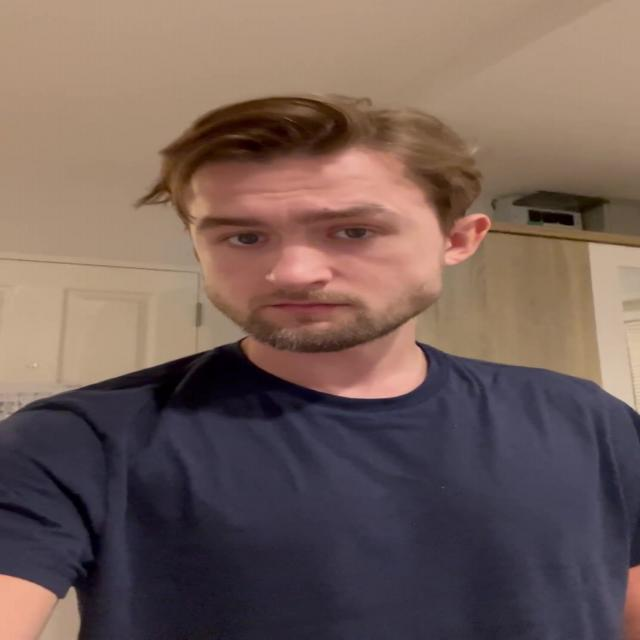earlobe: (442, 213, 492, 267)
